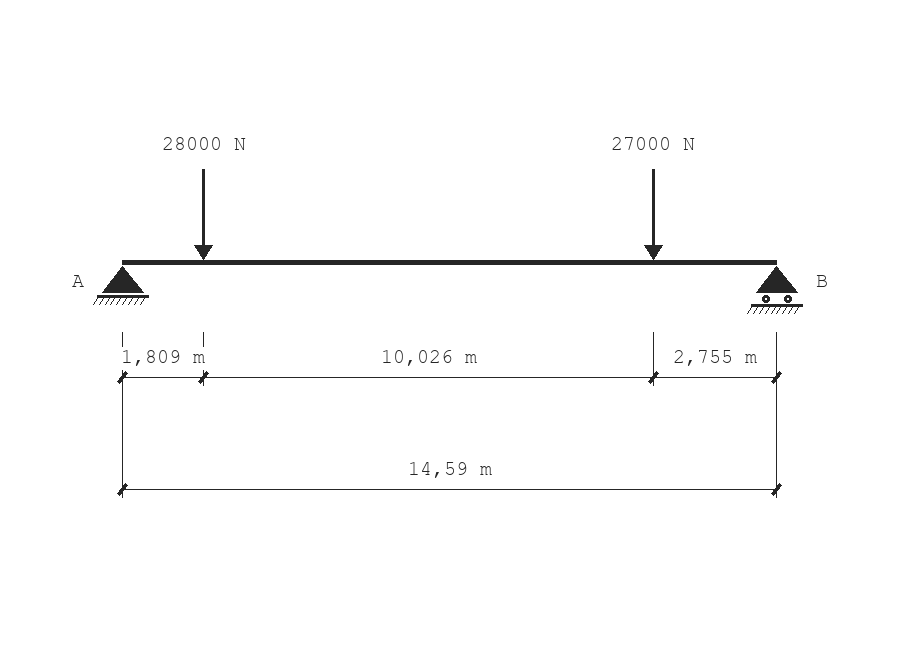pin_support: (93, 266, 149, 305)
point_load: (194, 169, 213, 260), (644, 169, 663, 260)
roller_support: (747, 266, 803, 314)
